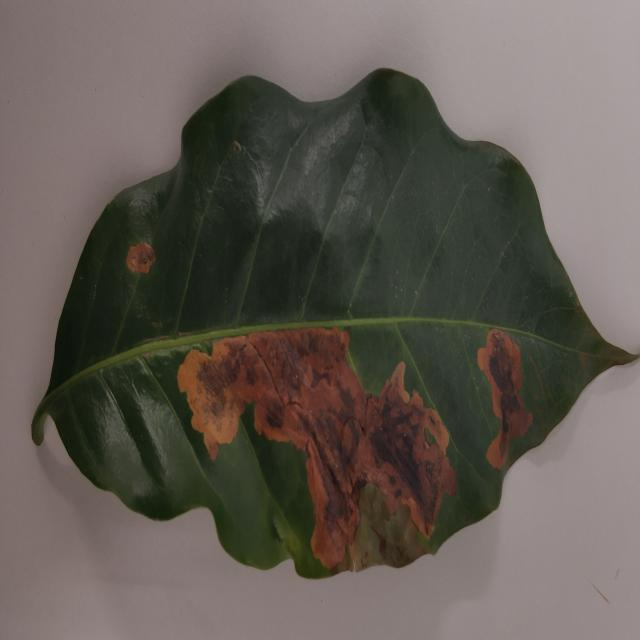Plaga-Minador: (30, 69, 636, 582)
